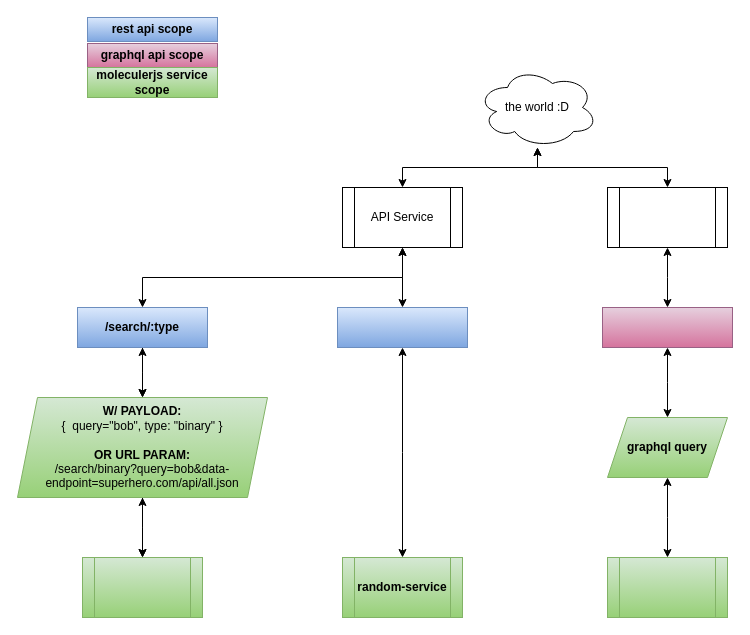
The diagram is 750 pixels wide and 635 high, and some of its shapes have lost their labels. Here are the shapes that lost their labels. From the top down, the centre of each, then its label:
At pixel 667 217: "GraphQL Service".
At pixel 402 327: "/random/:thing".
At pixel 667 327: "/mock/".
At pixel 142 587: "search-service".
At pixel 667 587: "mock-service".
